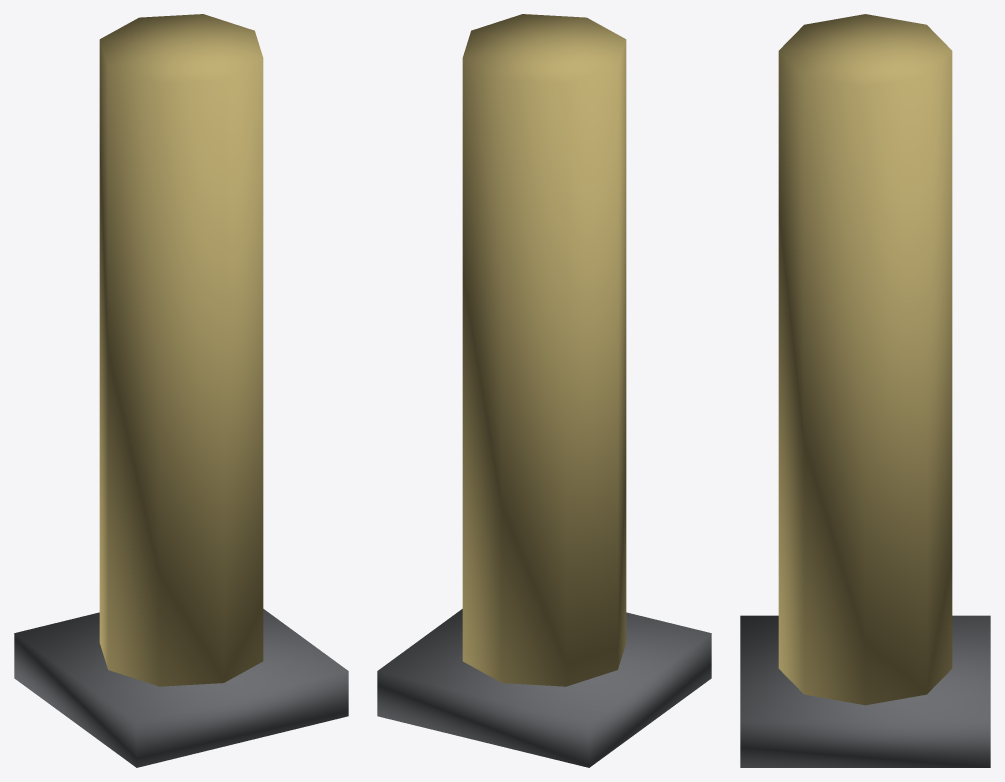
The model's file is bollard_07.glb.
3 views of the same model, side by side, from view 1: azimuth 30°, elevation 25°; view 2: azimuth 150°, elevation 25°; view 3: azimuth 270°, elevation 25° (orthographic). The views are drawn at different scales.
Parts seen in each view (by area): view 1: world; view 2: world; view 3: world.
Part boxes in pixels (<box>): world: <box>14,14,348,767</box>; world: <box>377,14,711,767</box>; world: <box>740,14,990,767</box>.
Bounding box in the file's own units: 0.2704 × 0.7912 × 0.2704.
